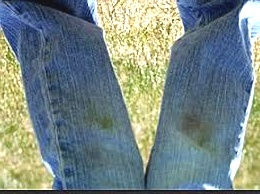earth: (182, 115, 211, 146), (92, 117, 116, 132)
